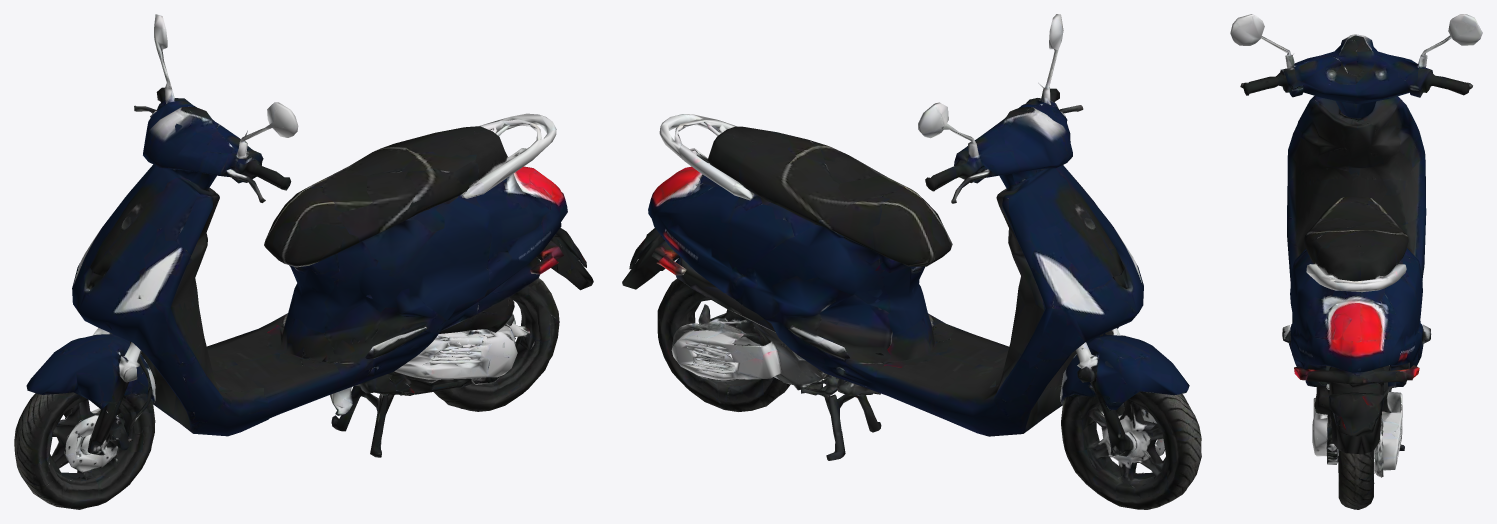
The model's file is bermuda-scooter.glb.
3 views of the same model, side by side, from view 1: azimuth 30°, elevation 25°; view 2: azimuth 150°, elevation 25°; view 3: azimuth 270°, elevation 25° (orthographic). The views are drawn at different scales.
Bounding box in the file's own units: 1.9 × 1.32 × 0.8058.
1 material, 1 textured.
